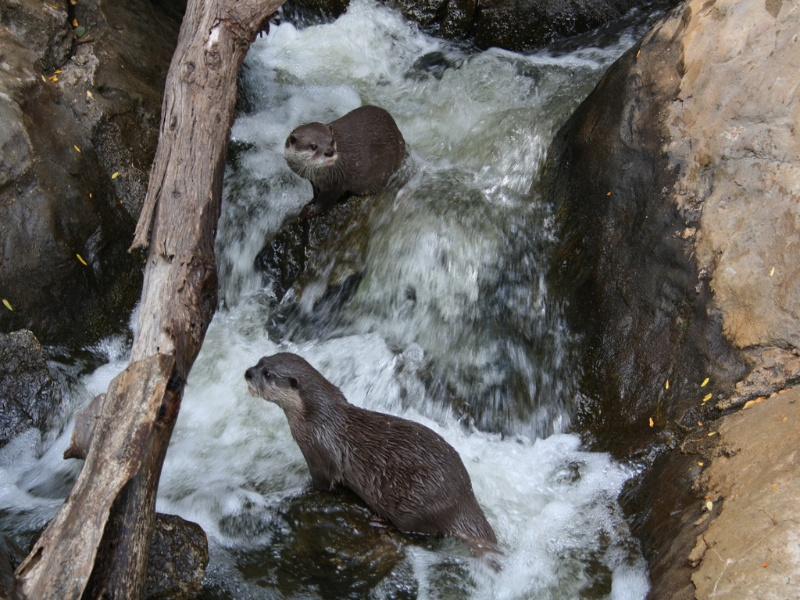minkish: (237, 350, 498, 556), (279, 102, 417, 215)
